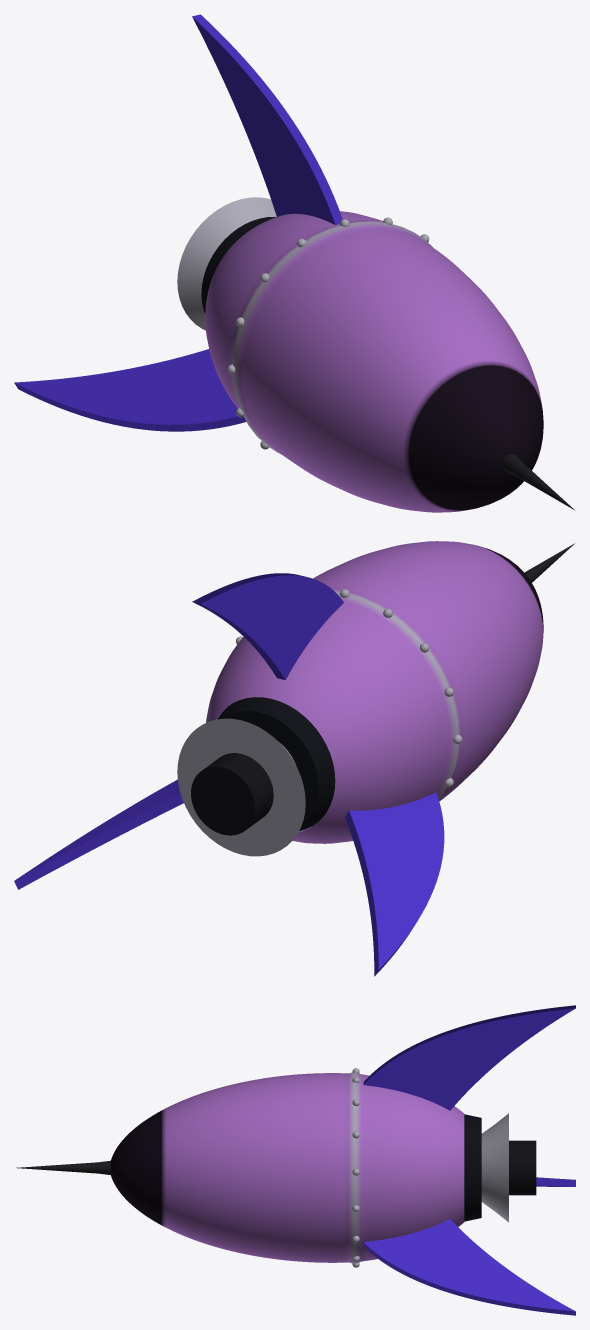
File: rocket-2.obj
The picture shows the model from 3 angles, top to bottom: view 1: azimuth 30°, elevation 25°; view 2: azimuth 150°, elevation 25°; view 3: azimuth 270°, elevation 25°; orthographic projection. The views are drawn at different scales.
Parts seen in each view (by area): view 1: rocket; view 2: rocket; view 3: rocket.
Boxes of the visible parts, left/top/right/bottom form: rocket: left=14, top=14, right=574, bottom=512; rocket: left=14, top=541, right=574, bottom=976; rocket: left=16, top=1005, right=575, bottom=1315.
Size of the model in its own units: 110 by 98.04 by 199.
